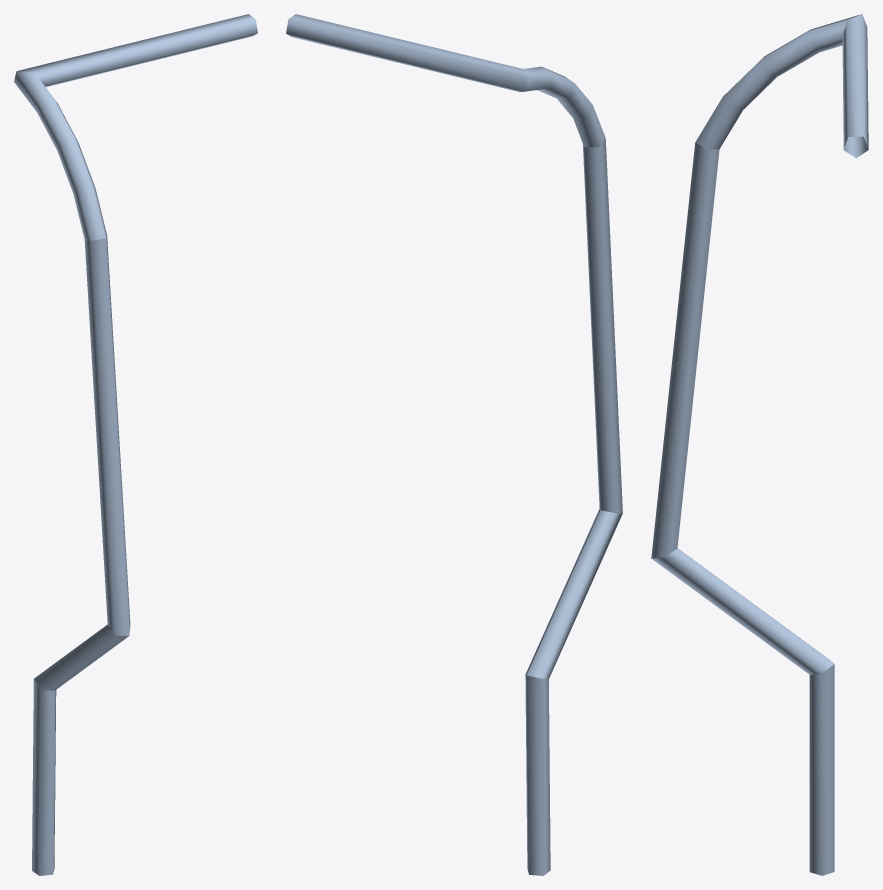
The model's file is original-36.obj.
The picture shows the model from 3 angles, left to right: view 1: azimuth 30°, elevation 25°; view 2: azimuth 150°, elevation 25°; view 3: azimuth 270°, elevation 25°; orthographic projection. The views are drawn at different scales.
Visible parts, largest first — view 1: #ID119; view 2: #ID119; view 3: #ID119.
Boxes of the visible parts, x1,y1,x2,y2 form: #ID119: [14, 14, 257, 875]; #ID119: [286, 14, 622, 875]; #ID119: [651, 14, 868, 875].
Size of the model in its own units: 0.3433 by 1.11 by 0.2568.
